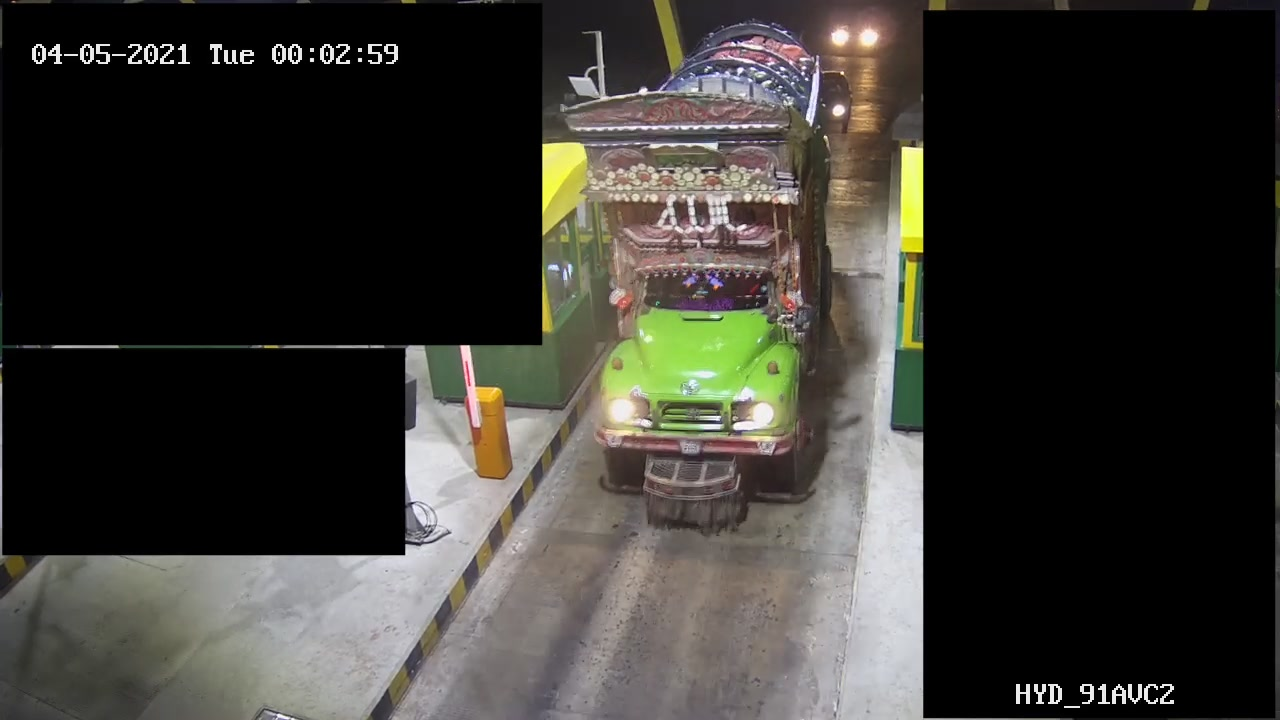F5: (575, 15, 827, 536)
